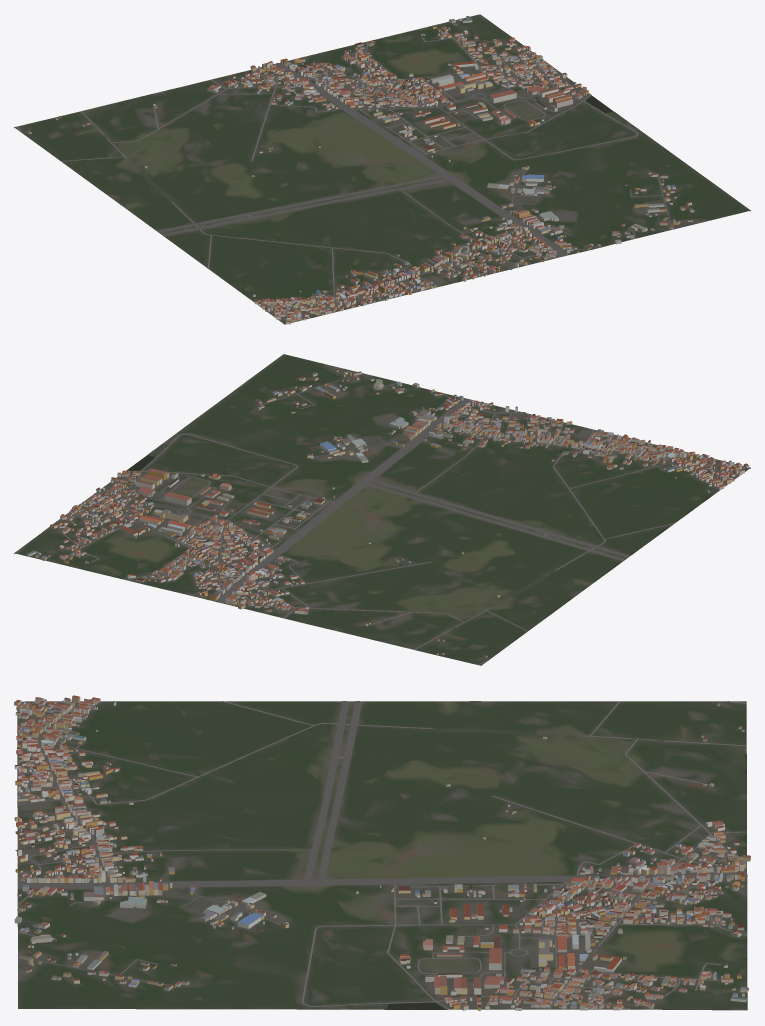
3 renders of one model, top to bottom at view 1: azimuth 30°, elevation 25°; view 2: azimuth 150°, elevation 25°; view 3: azimuth 270°, elevation 25°, orthographic. The views are drawn at different scales.
Visible parts, largest first — view 1: ground, buildings, roads; view 2: ground, buildings, roads; view 3: ground, buildings, roads.
Boxes of the visible parts, <box> form: ground: <box>14,14,750,324</box>; buildings: <box>28,16,694,324</box>; roads: <box>17,32,670,322</box>; ground: <box>14,354,750,665</box>; buildings: <box>26,368,749,657</box>; roads: <box>56,373,745,664</box>; ground: <box>17,701,747,1010</box>; buildings: <box>14,695,750,1010</box>; roads: <box>15,701,747,1009</box>.
Size of the model in its own units: 1406 by 26.71 by 1416.
